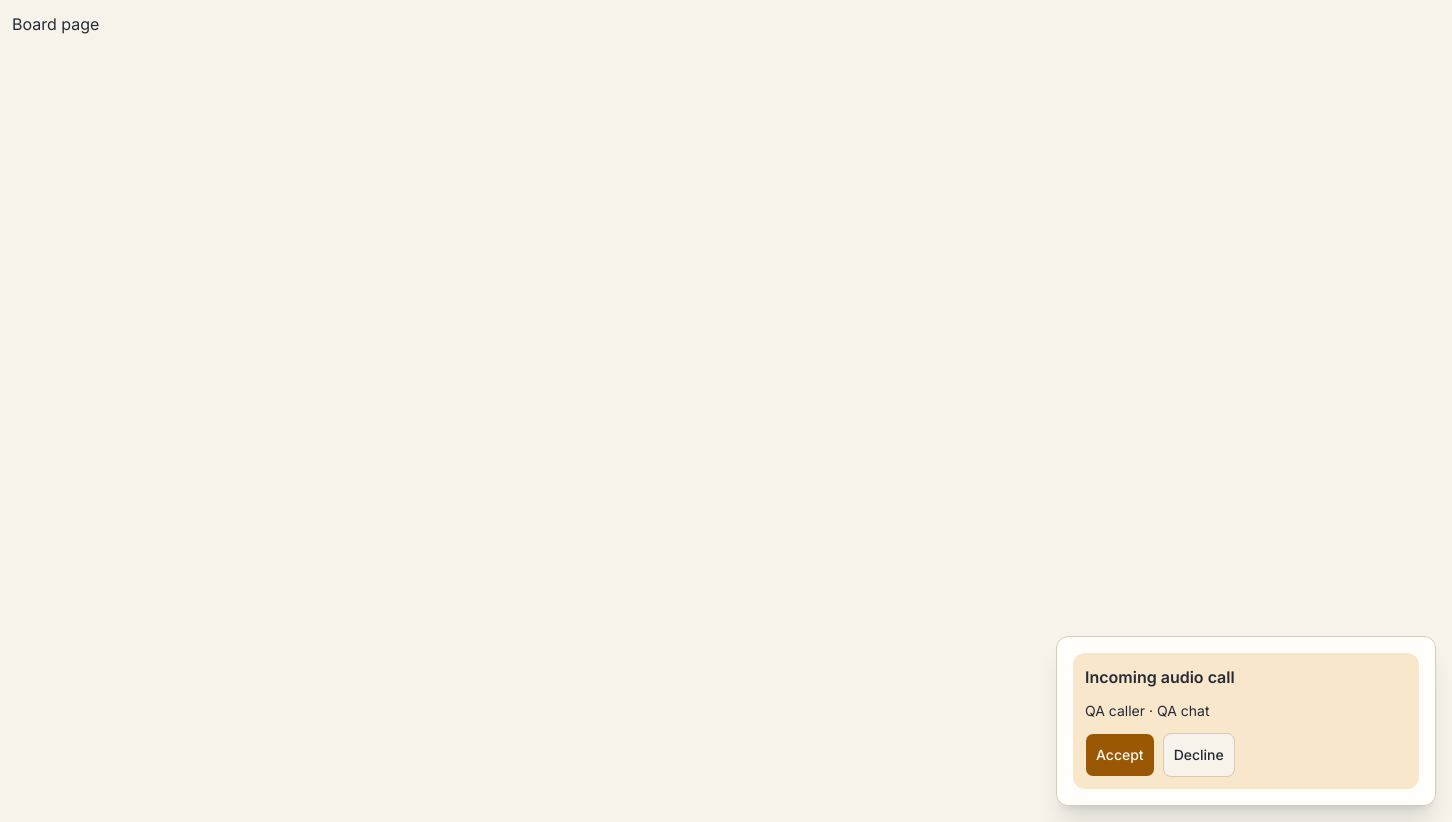
shows incoming calls across dashboard pages and declines without requesting media
Expected: the text "Incoming audio call" is shown, [1085, 667, 1235, 687]
Click the button "Decline" at [1199, 755], box [1163, 733, 1235, 777]
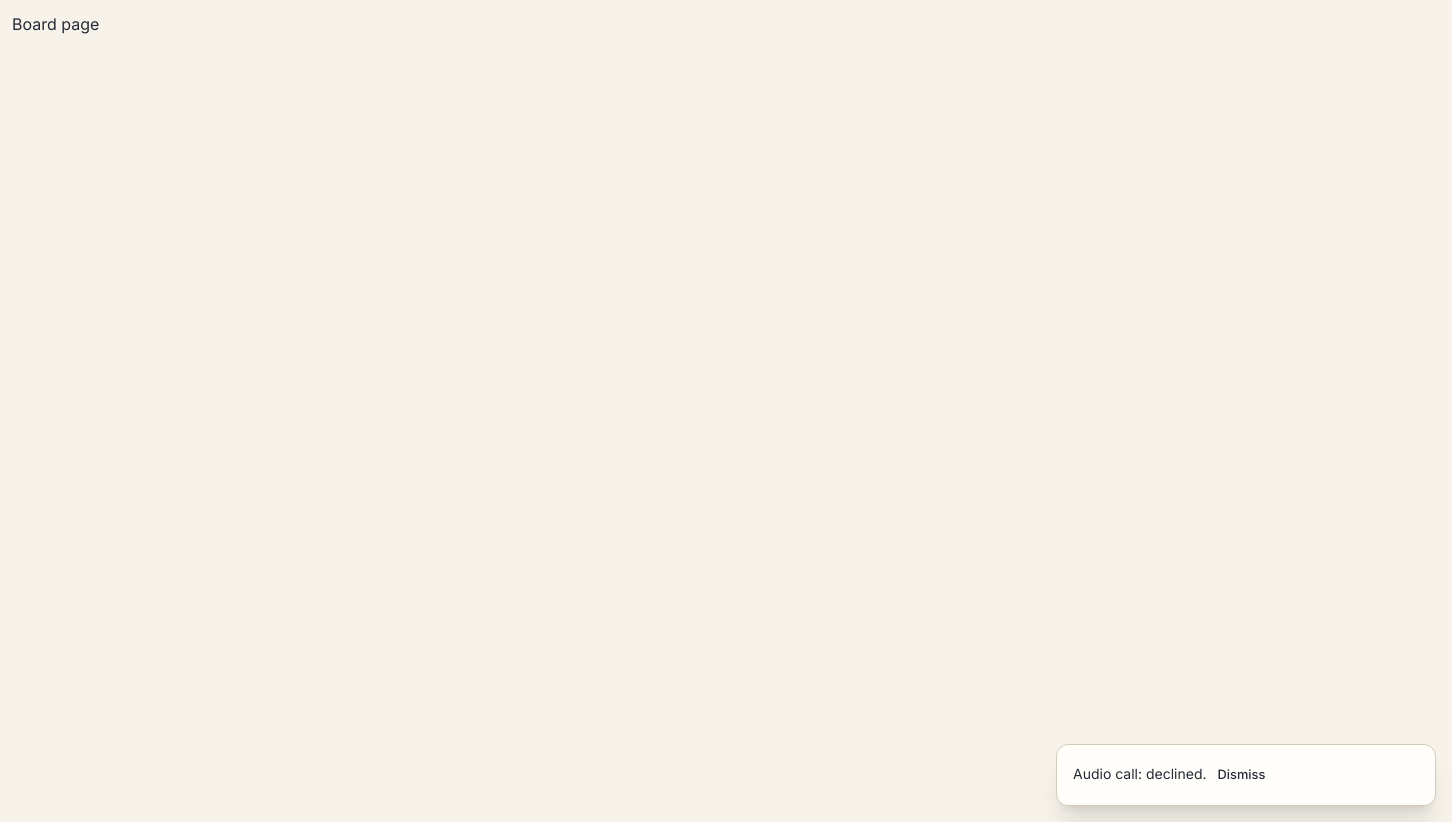
Expected: the text "Board page" is shown, [12, 14, 99, 34]
Expected: the text "Incoming audio call" is gone
